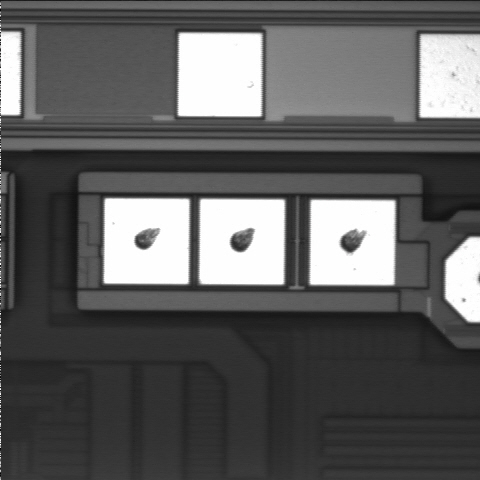pad: (104, 199, 189, 284), (200, 199, 285, 284), (310, 200, 395, 285), (178, 33, 262, 116)
